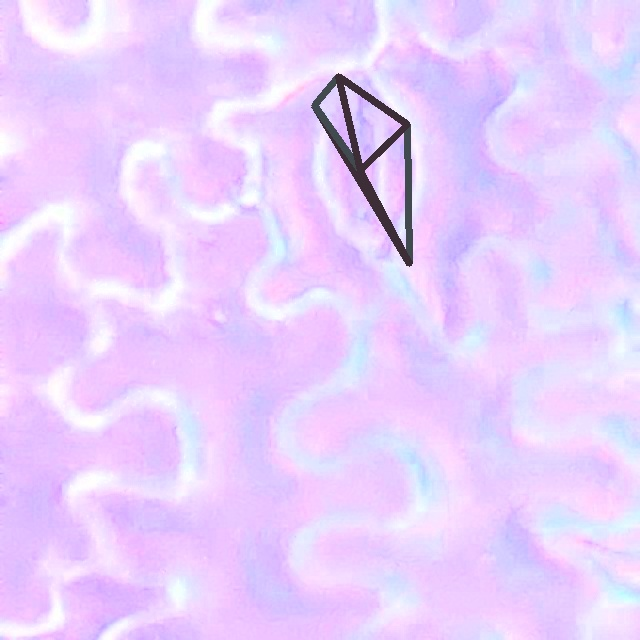open: (311, 73, 410, 266)
